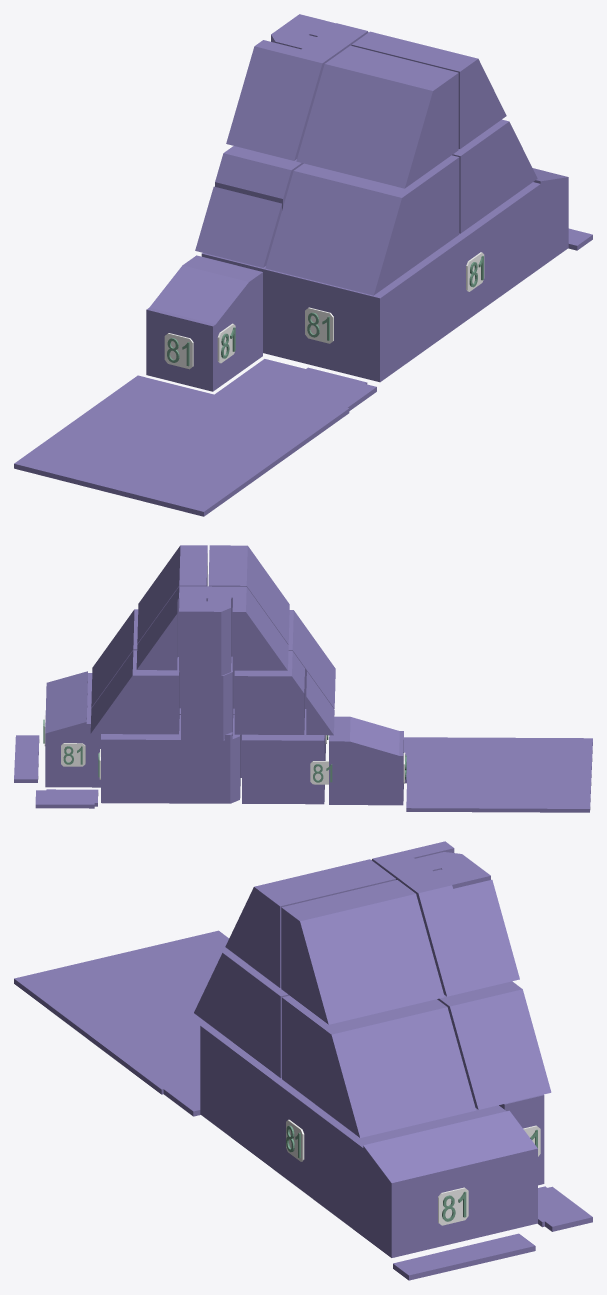
3 views of the same model, one above another, from view 1: azimuth 30°, elevation 25°; view 2: azimuth 150°, elevation 25°; view 3: azimuth 270°, elevation 25° (orthographic). The views are drawn at different scales.
Visible parts, largest first — view 1: g_17, g_6, g_2, g_10, g_11, g_15, g_0, g_5, g_16, g_3, g_7, g_1 (+2 smaller); view 2: g_17, g_0, g_15, g_10, g_14, g_4, g_11, g_7, g_12, g_1, g_2, g_9 (+8 smaller); view 3: g_11, g_5, g_17, g_3, g_0, g_4, g_2, g_6, g_10, g_19, g_18, g_1 (+2 smaller).
Boxes of the visible parts, x1,y1,x2,y2 form: g_17: (14,359,376,516); g_6: (265,155,459,295); g_2: (296,45,458,188); g_10: (201,253,436,382); g_11: (429,168,568,341); g_15: (146,255,262,391); g_0: (226,23,368,160); g_5: (452,119,537,233); g_16: (195,186,281,267); g_3: (351,31,506,148); g_7: (215,146,303,210); g_1: (271,14,335,49); g_17: (404,737,592,812); g_0: (136,586,288,670); g_15: (329,716,403,805); g_10: (241,709,325,804); g_14: (101,715,180,803); g_4: (90,650,179,734); g_11: (45,671,241,787); g_7: (234,651,304,734); g_12: (178,715,240,803); g_1: (179,597,231,670); g_2: (208,545,289,644); g_9: (181,658,232,734); g_11: (257,1067,537,1257); g_5: (282,995,476,1137); g_17: (14,930,229,1116); g_3: (281,880,444,1024); g_0: (371,841,519,996); g_4: (437,981,551,1109); g_2: (225,859,395,987); g_6: (194,951,289,1078); g_10: (200,1024,264,1156); g_19: (393,1233,535,1280); g_18: (538,1186,592,1231); g_1: (415,852,490,888).
Bounding box in the file's own units: 21.46 × 7.94 × 15.23.
